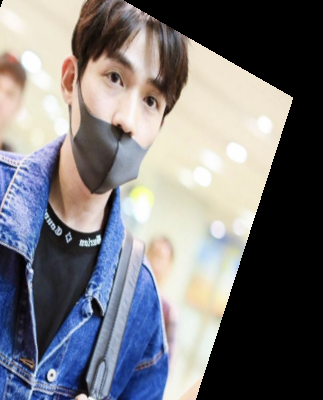mask_weared_incorrect: (47, 2, 215, 206)
